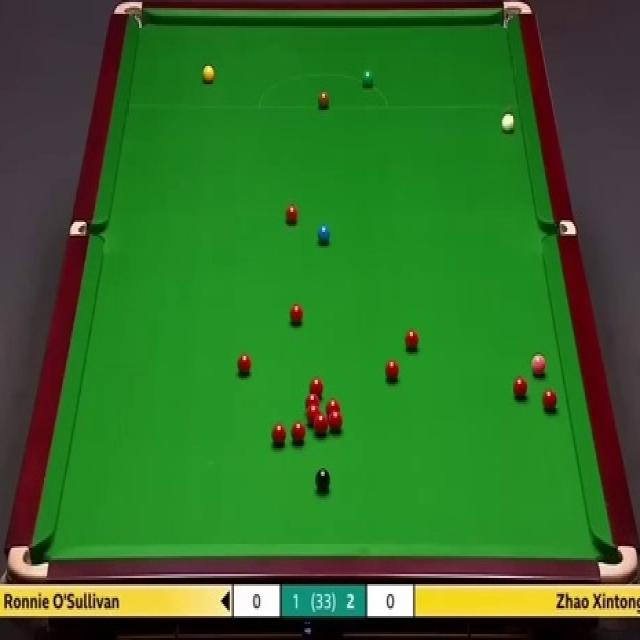black-ball: (315, 467, 331, 493)
blue-ball: (317, 224, 330, 242)
brown-ball: (317, 92, 330, 109)
green-ball: (364, 73, 376, 93)
pink-ball: (530, 354, 548, 378)
red-ball: (511, 374, 530, 400), (288, 305, 307, 328), (542, 387, 558, 410), (314, 414, 328, 439), (236, 354, 252, 375), (328, 411, 344, 432), (291, 421, 306, 443), (272, 423, 287, 445), (285, 202, 299, 225), (384, 361, 398, 382), (326, 398, 340, 416), (406, 330, 418, 350), (306, 408, 319, 426), (311, 377, 322, 398), (306, 397, 319, 413)
white-ball: (501, 110, 514, 132)
yellow-ball: (202, 64, 214, 85)
